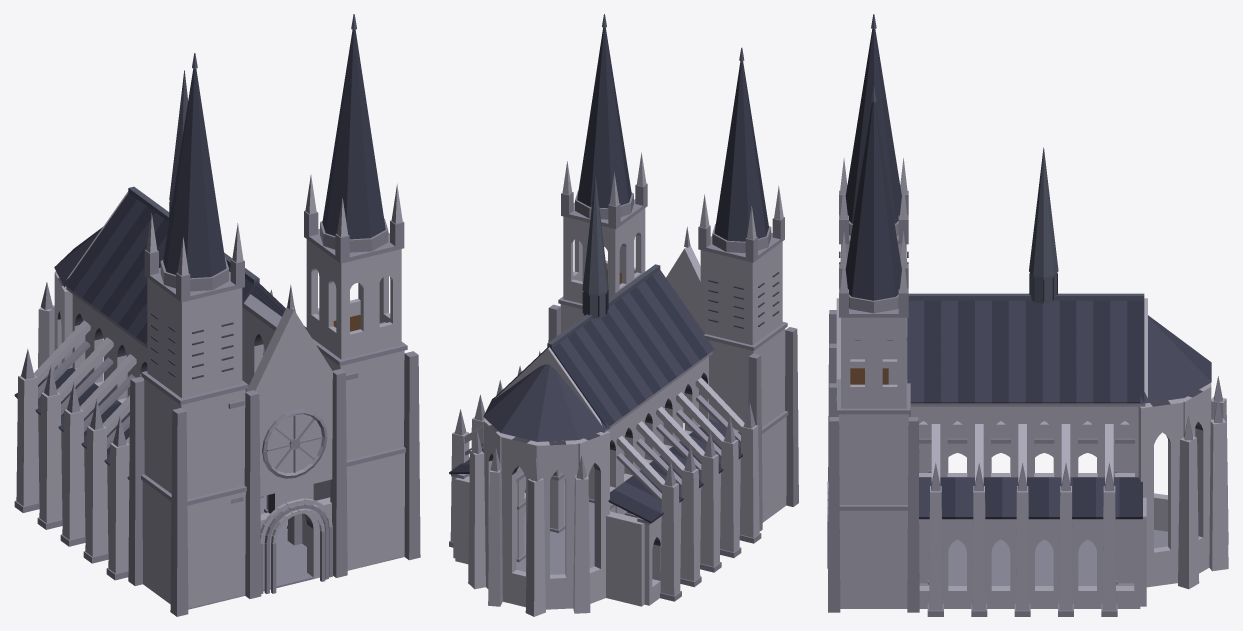
The model's file is cathedral.glb.
3 renders of one model, left to right at view 1: azimuth 30°, elevation 25°; view 2: azimuth 150°, elevation 25°; view 3: azimuth 270°, elevation 25°, orthographic. The views are drawn at different scales.
Visible parts, largest first — view 1: cathedral; view 2: cathedral; view 3: cathedral.
Part boxes in pixels (x1,y1,x2,y2): cathedral: (14,14,420,616); cathedral: (449,14,798,616); cathedral: (827,14,1228,616).
Bounding box in the file's own units: 23 × 45.06 × 32.36.
